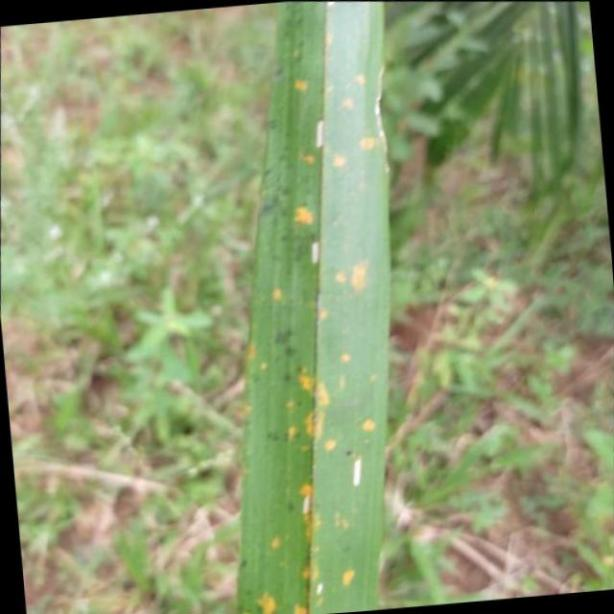Kalium: (240, 0, 393, 614)
